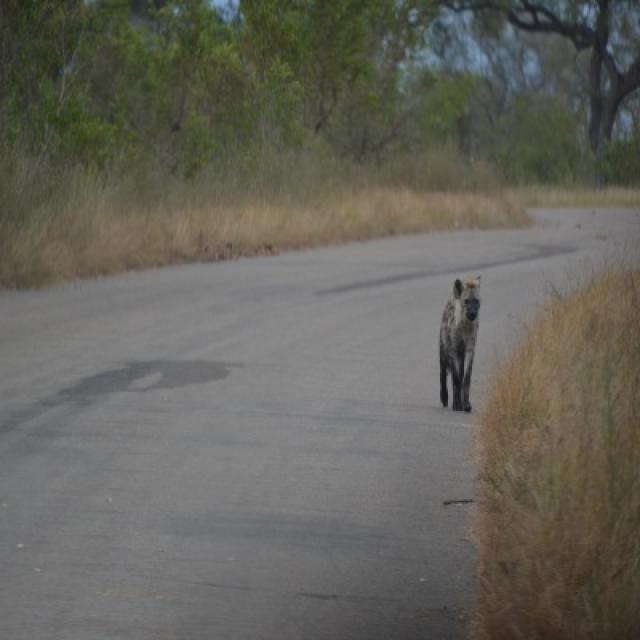hyena: (440, 275, 478, 411)
